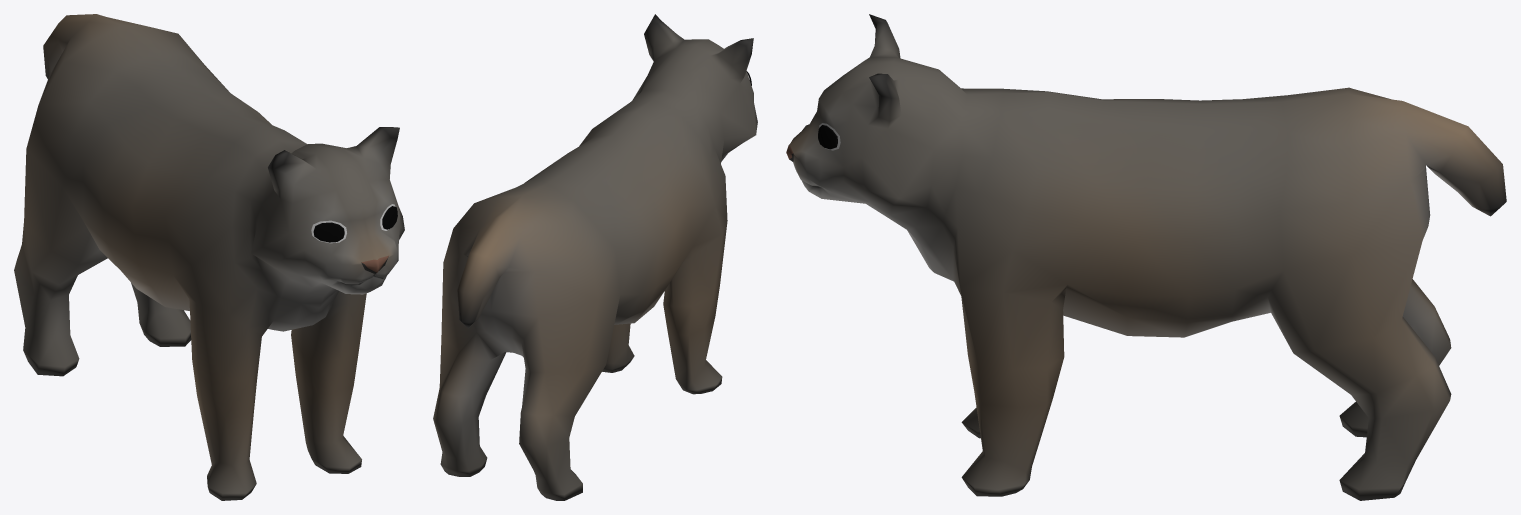
The model's file is kit-bobcat.glb.
3 renders of one model, left to right at view 1: azimuth 30°, elevation 25°; view 2: azimuth 150°, elevation 25°; view 3: azimuth 270°, elevation 25°, orthographic. The views are drawn at different scales.
Parts seen in each view (by area): view 1: base; view 2: base; view 3: base.
Boxes of the visible parts, left/top/right/bottom form: base: left=14, top=14, right=404, bottom=500; base: left=433, top=14, right=757, bottom=500; base: left=786, top=14, right=1506, bottom=500.
Size of the model in its own units: 0.3374 by 0.6531 by 1.03.
